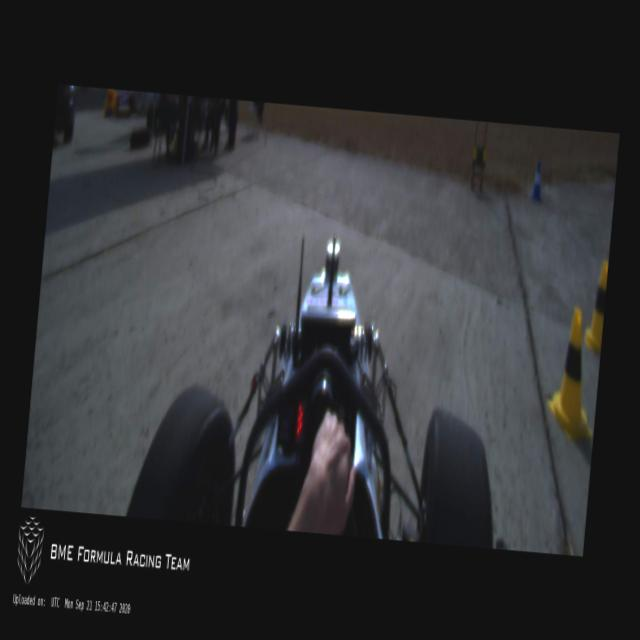blue_cone: (528, 159, 546, 203)
yellow_cone: (542, 305, 604, 446), (581, 257, 608, 357)
